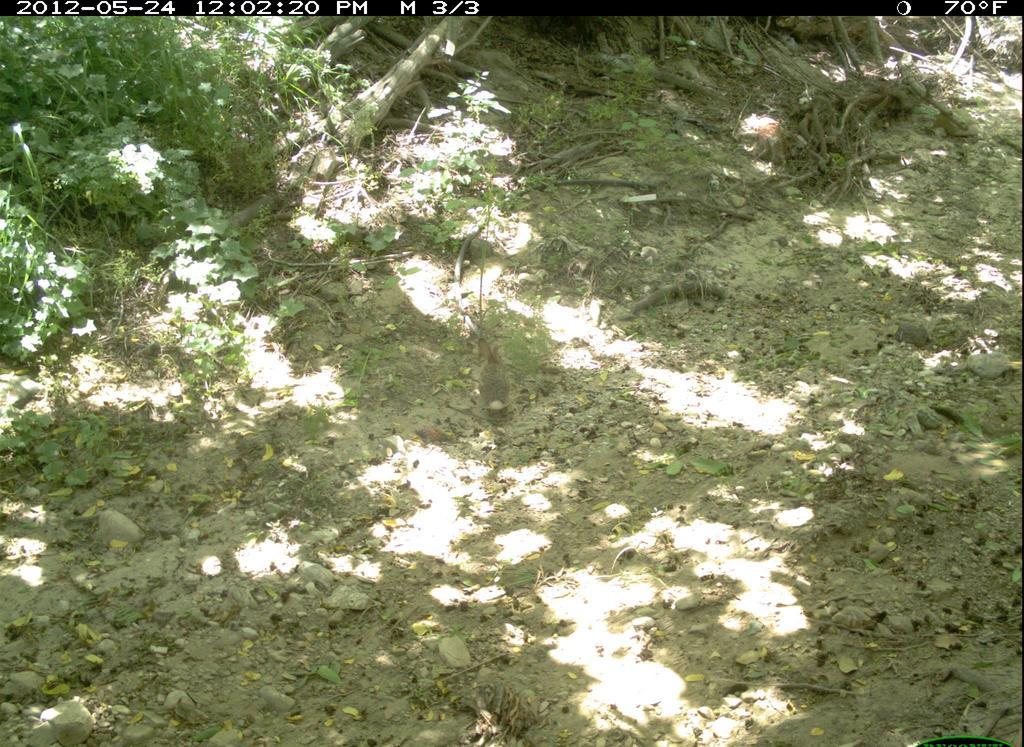rabbit: (473, 327, 520, 437)
